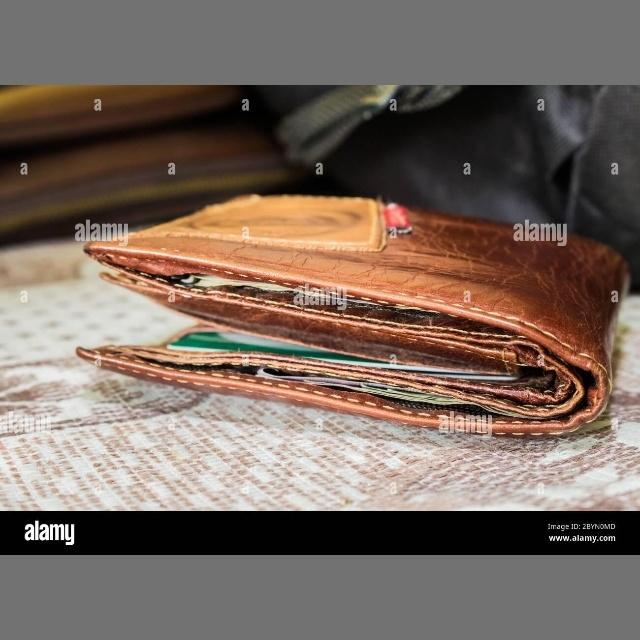Wallet: (65, 175, 640, 458)
